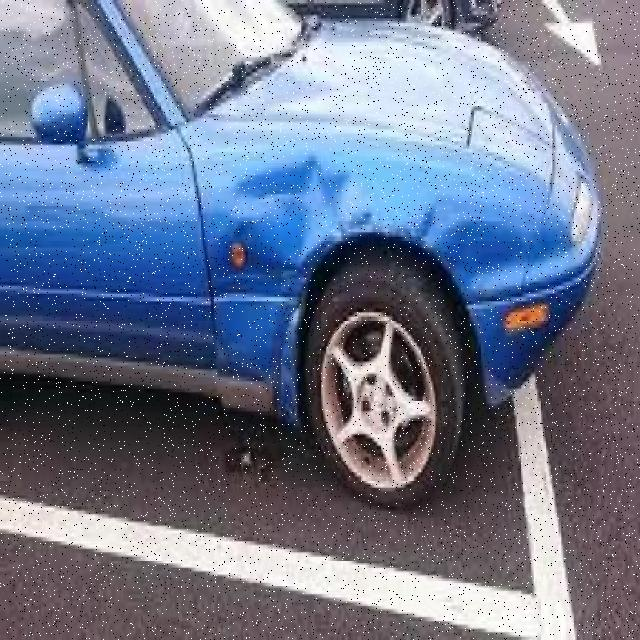damage: (205, 148, 514, 386)
